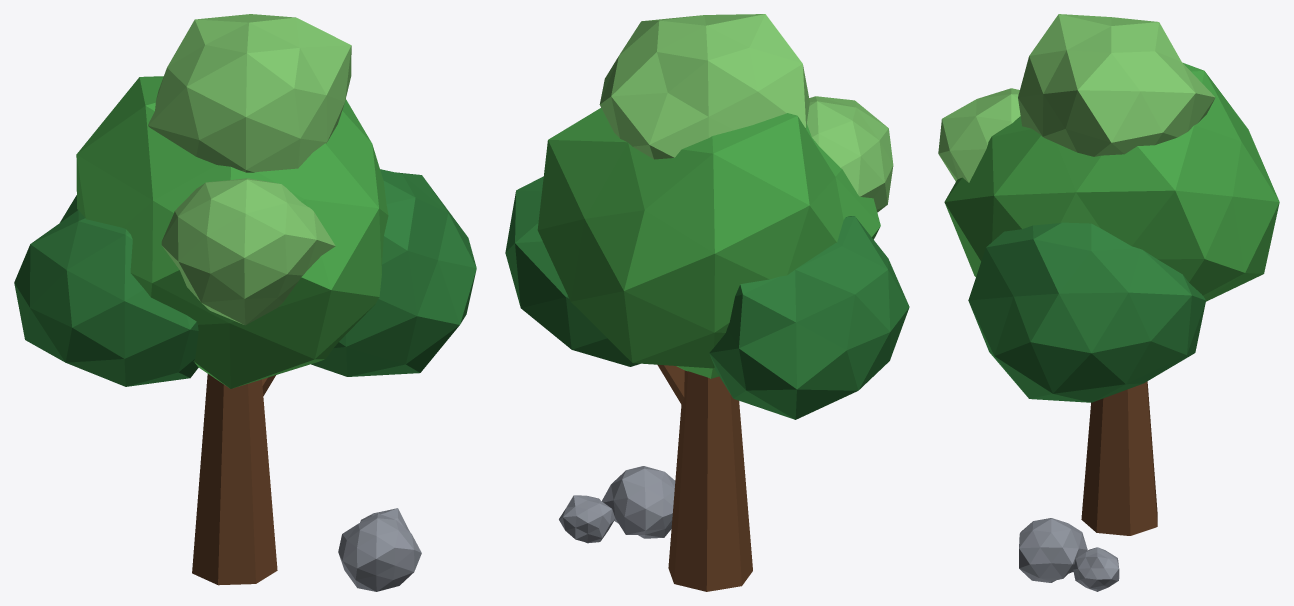
The model's file is Tree.glb.
The picture shows the model from 3 angles, left to right: view 1: azimuth 30°, elevation 25°; view 2: azimuth 150°, elevation 25°; view 3: azimuth 270°, elevation 25°; orthographic projection. The views are drawn at different scales.
Visible parts, largest first — view 1: Tree; view 2: Tree; view 3: Tree.
Part boxes in pixels (x1,y1,x2,y2): Tree: (14, 14, 476, 591); Tree: (505, 14, 909, 591); Tree: (938, 14, 1279, 591).
Size of the model in its own units: 2.16 by 2.84 by 1.71.
